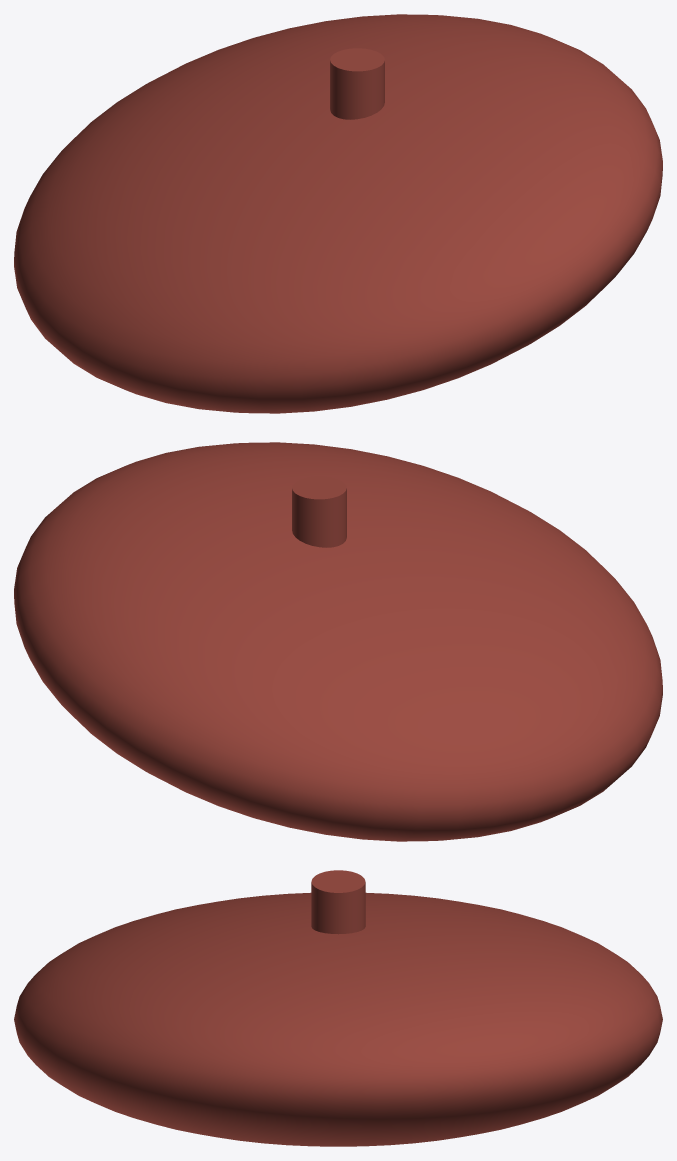
The model's file is barista_beret.fbx.
3 renders of one model, top to bottom at view 1: azimuth 30°, elevation 25°; view 2: azimuth 150°, elevation 25°; view 3: azimuth 270°, elevation 25°, orthographic.
Parts seen in each view (by area): view 1: Sphere007, Cylinder003; view 2: Sphere007, Cylinder003; view 3: Sphere007, Cylinder003.
Boxes of the visible parts, bbox=[...] form: Sphere007: bbox=[14, 14, 662, 413]; Cylinder003: bbox=[330, 48, 384, 119]; Sphere007: bbox=[14, 442, 662, 841]; Cylinder003: bbox=[292, 476, 346, 547]; Sphere007: bbox=[14, 892, 662, 1146]; Cylinder003: bbox=[311, 870, 365, 934].
Size of the model in its own units: 11.74 by 5.3 by 12.
